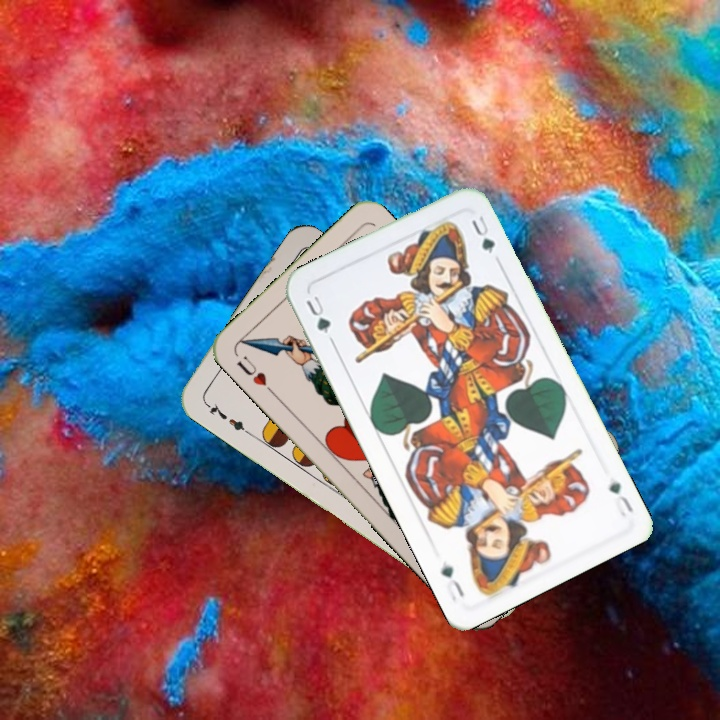E7: (201, 398, 253, 438)
GU: (301, 290, 333, 337), (604, 478, 637, 519)
HU: (233, 351, 277, 397)
